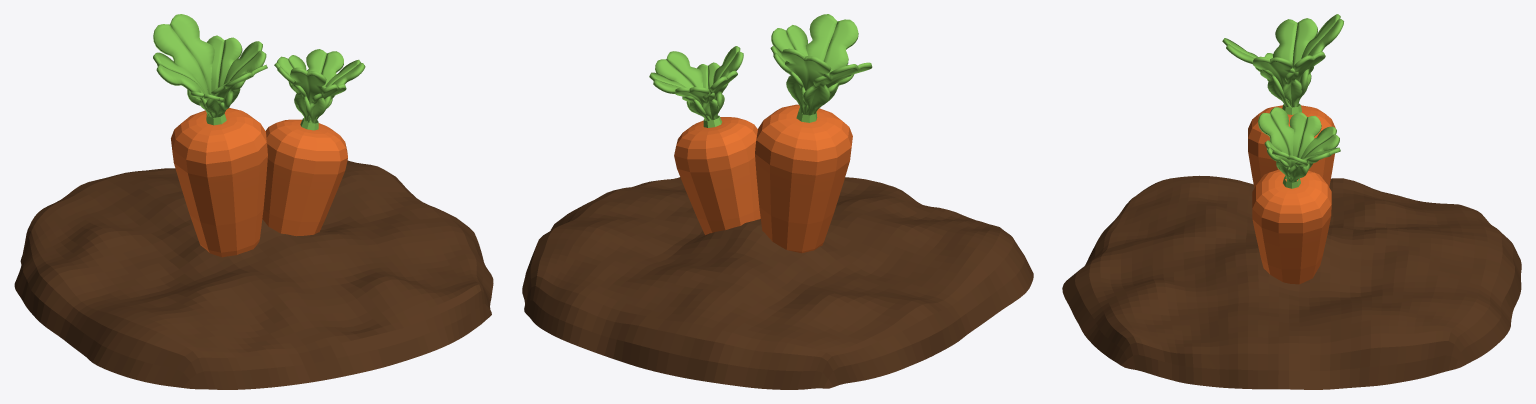
File: Carrot_L.fbx
3 views of the same model, side by side, from view 1: azimuth 30°, elevation 25°; view 2: azimuth 150°, elevation 25°; view 3: azimuth 270°, elevation 25° (orthographic). The views are drawn at different scales.
Visible parts, largest first — view 1: Cylinder; view 2: Cylinder; view 3: Cylinder.
Boxes of the visible parts, x1,y1,x2,y2 form: Cylinder: [14, 14, 493, 389]; Cylinder: [522, 14, 1033, 389]; Cylinder: [1062, 14, 1521, 389].
Bounding box in the file's own units: 128 × 78.22 × 127.
